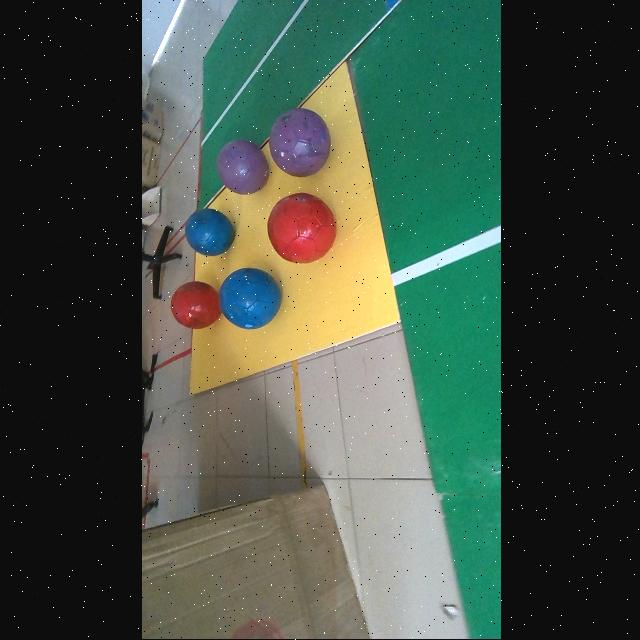B: (217, 268, 279, 330), (183, 209, 233, 256)
P: (267, 109, 328, 175), (215, 141, 267, 195)
R: (265, 193, 335, 264), (169, 282, 218, 330)
